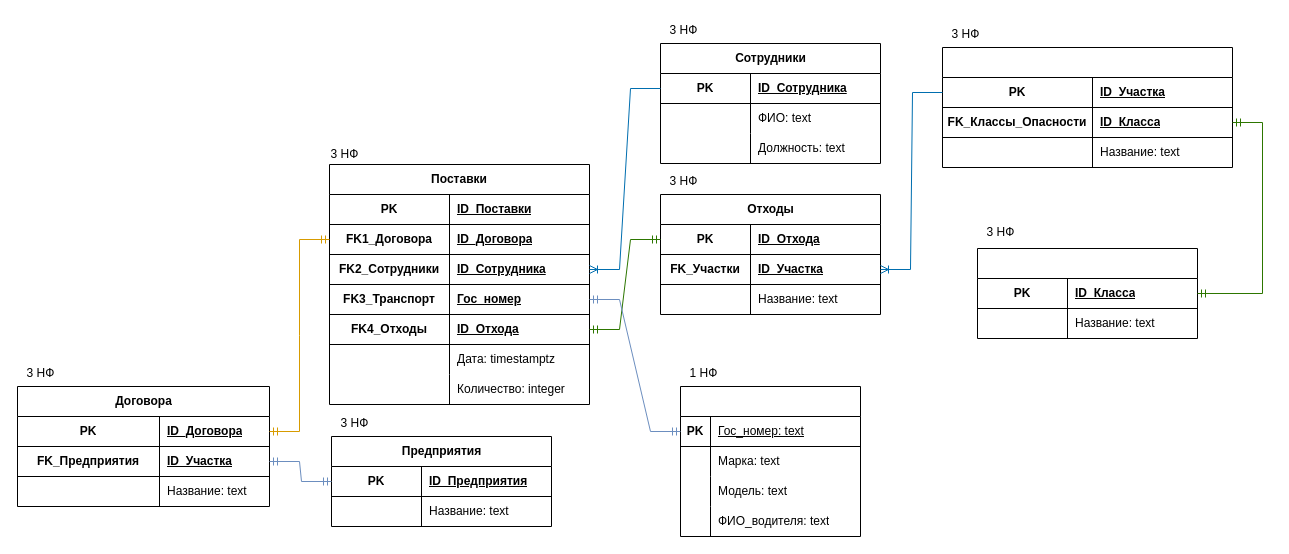
Image size: 1289x554. Some labels were removed from this diagram. The box of each missing label's shape, as (x1, y1, x2, y2) in pixels:
Классы опасности: (976, 248, 1198, 338)
Транспорт: (680, 386, 860, 536)
Участки: (942, 46, 1232, 168)
